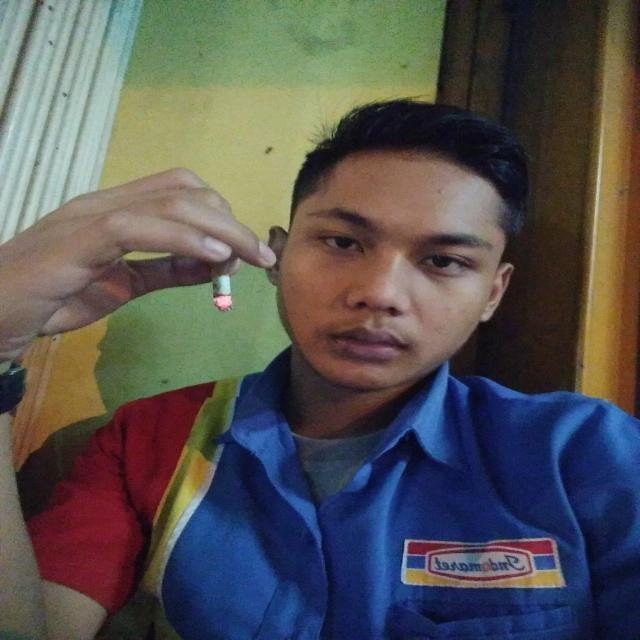rokok: (212, 268, 232, 312)
